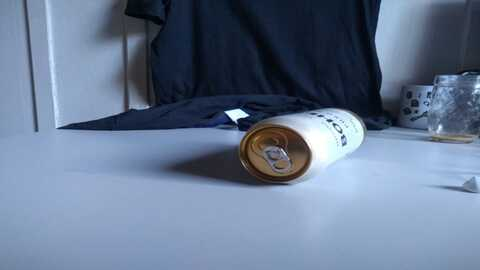bohemia: (241, 101, 369, 181)
